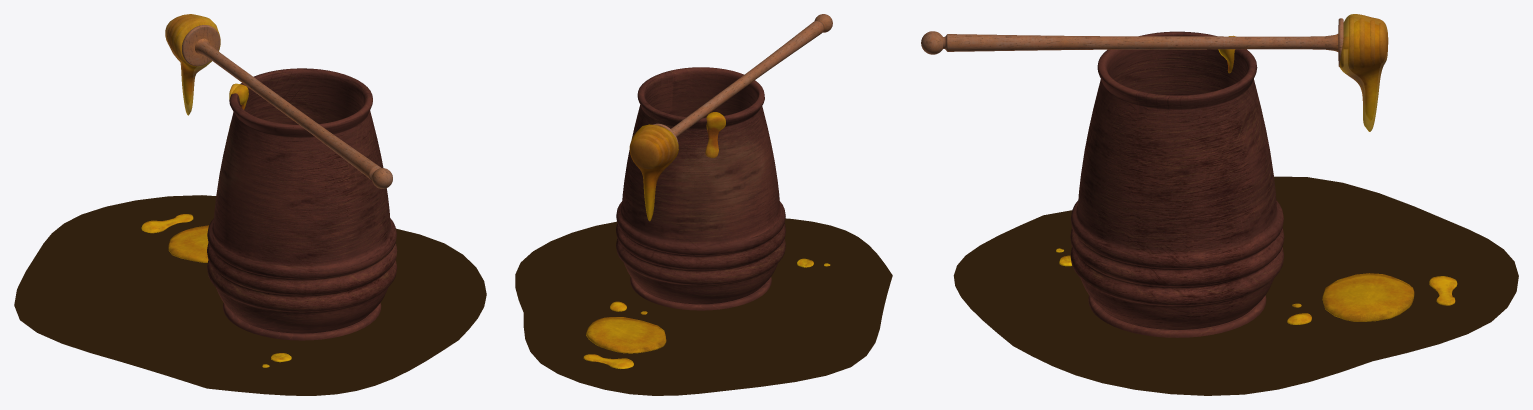
File: honey.glb
The picture shows the model from 3 angles, left to right: view 1: azimuth 30°, elevation 25°; view 2: azimuth 150°, elevation 25°; view 3: azimuth 270°, elevation 25°; orthographic projection. The views are drawn at different scales.
Parts seen in each view (by area): view 1: Object_3, Object_2, Object_4, Object_5; view 2: Object_3, Object_2, Object_5, Object_4; view 3: Object_3, Object_2, Object_5, Object_4.
Part boxes in pixels (bbox=[...]): Object_3: bbox=[14, 195, 486, 395]; Object_2: bbox=[207, 68, 397, 340]; Object_4: bbox=[167, 15, 392, 188]; Object_5: bbox=[141, 14, 291, 367]; Object_3: bbox=[515, 218, 892, 395]; Object_2: bbox=[616, 67, 785, 310]; Object_5: bbox=[583, 112, 830, 368]; Object_4: bbox=[631, 14, 832, 168]; Object_3: bbox=[953, 176, 1518, 395]; Object_2: bbox=[1070, 31, 1284, 337]; Object_5: bbox=[1056, 14, 1457, 324]; Object_4: bbox=[921, 16, 1387, 68].
Size of the model in its own units: 9.8 by 5.57 by 11.29.
Materials: 4 (3 with a texture image).
